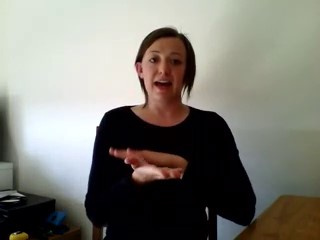H: (108, 142, 190, 189)
